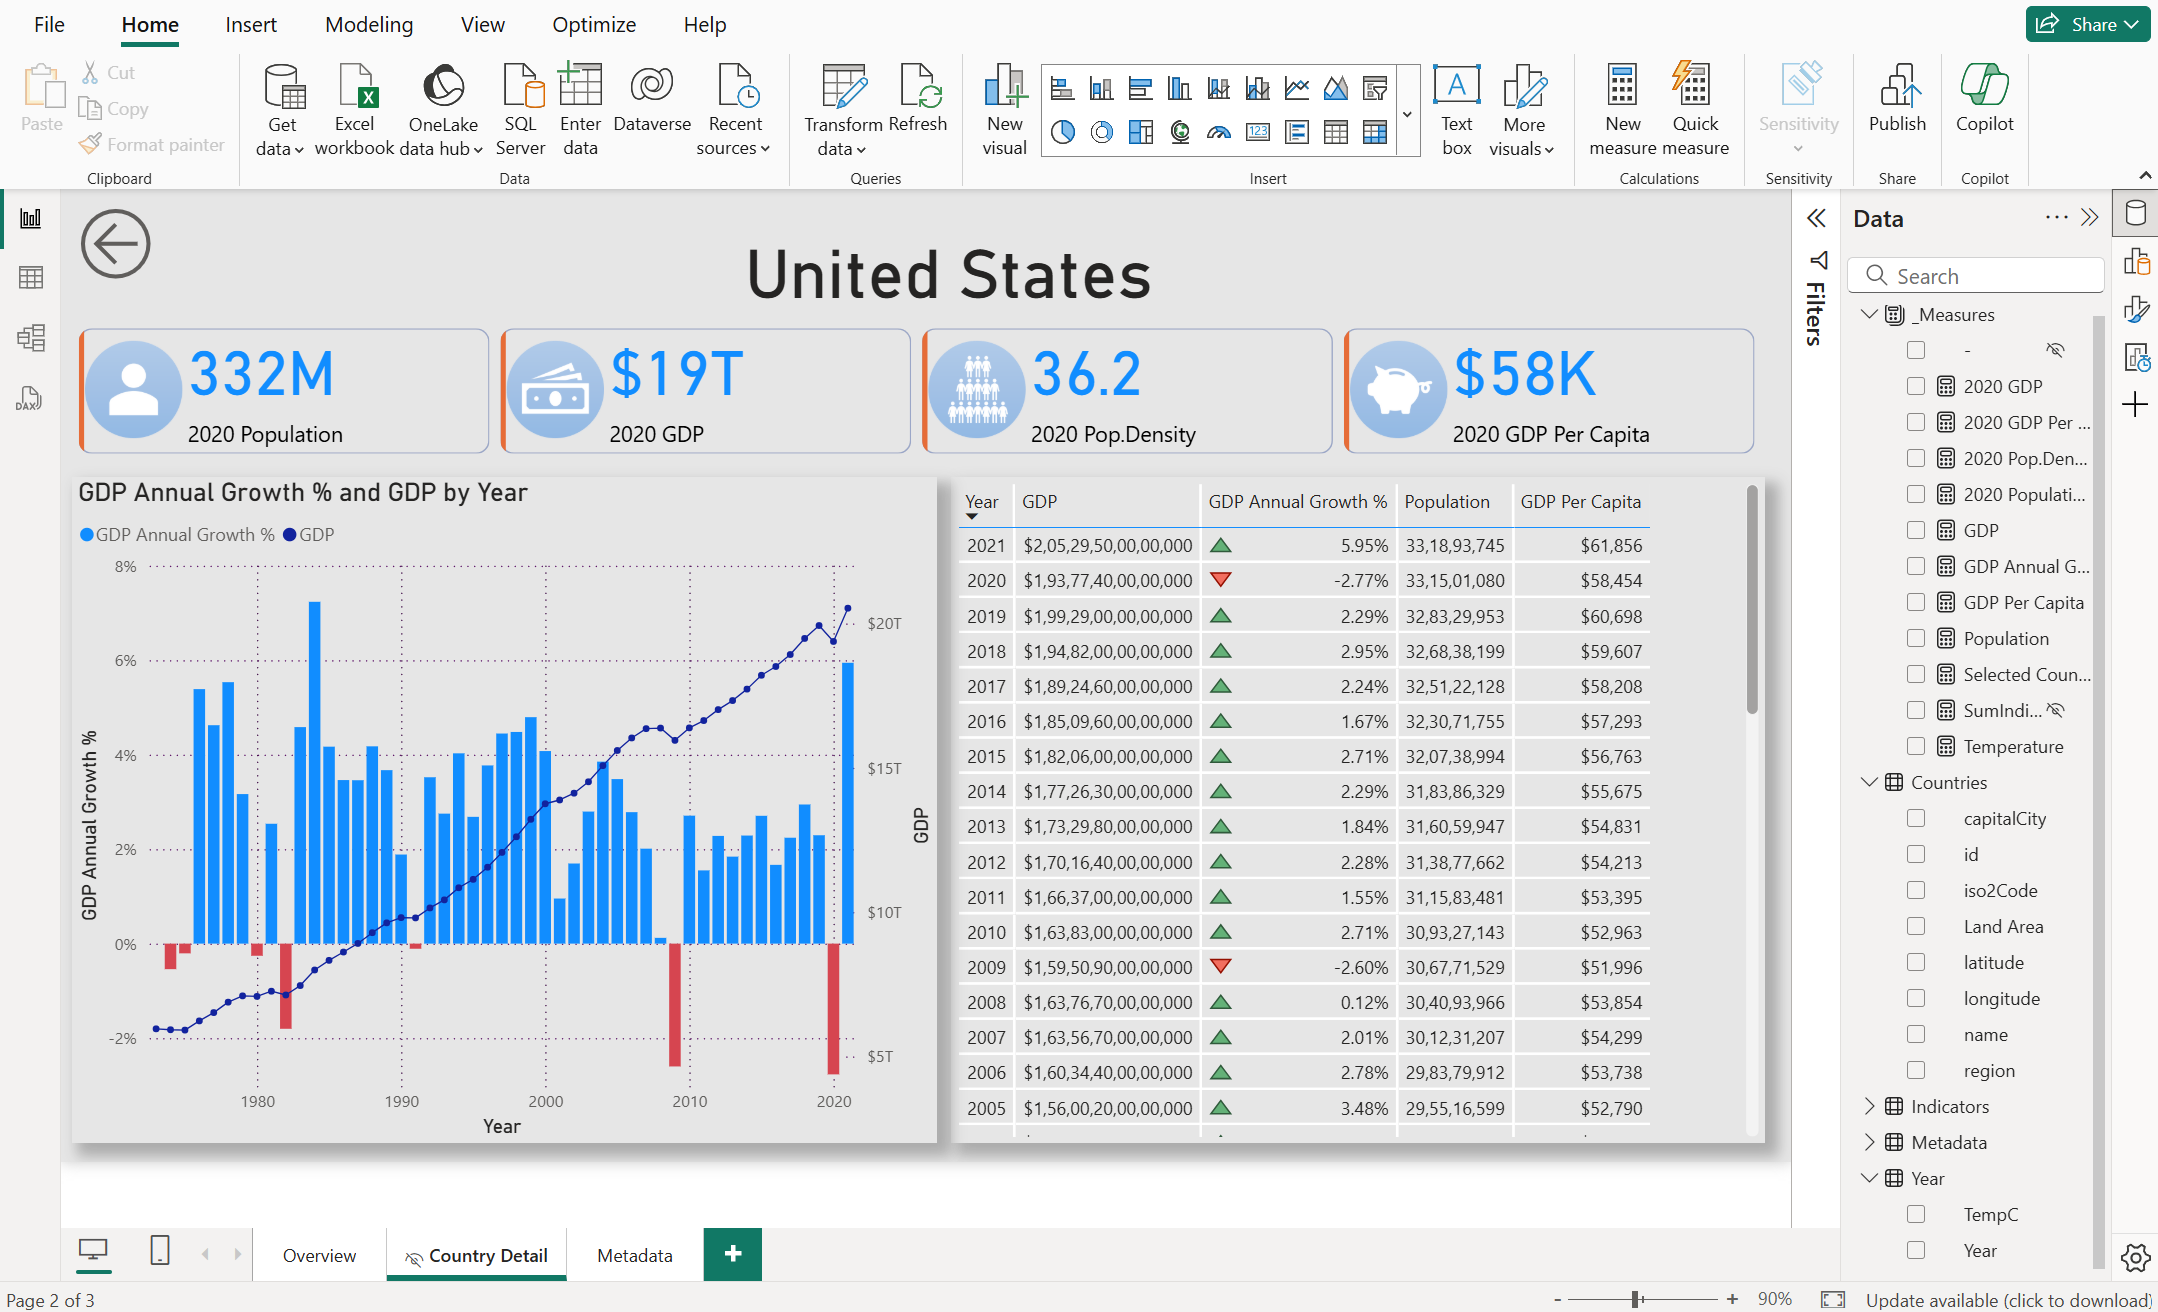

The page's visual inventory and layout, read from the dashboard file:
{"tool":"powerbi","page":{"name":"Country Detail","canvas":[1280,720],"ordinal":1},"visuals":[{"type":"actionButton","box":[7.8,7.8,65.5,65.5],"z":0},{"type":"tableEx","fields":{"Values":["Indicators.Year","_Measures.GDP","_Measures.GDP Annual Growth %","_Measures.Population","_Measures.GDP Per Capita"]},"box":[658,213.1,602.9,492.7],"z":1000},{"type":"lineStackedColumnComboChart","fields":{"Category":["Indicators.Year"],"Y2":["_Measures.GDP"],"Y":["_Measures.GDP Annual Growth %"]},"box":[7.8,213.1,640.4,492.8],"z":2000},{"type":"cardVisual","fields":{"Data":["_Measures.Selected Country"]},"box":[117.6,7.8,1079.9,89.9],"z":3000},{"type":"cardVisual","fields":{"Data":["_Measures.2020 Population","_Measures.2020 GDP","_Measures.2020 Pop.Density","_Measures.2020 GDP Per Capita"]},"box":[7.3,97.7,1253.6,103.9],"z":4000}]}

Visuals, with their boxes on the page's 1280x720 design canvas (x1, y1, x2, y2). These are canvas units, not pixel positions in the 2158x1312 screenshot, which may show the page scaled, cropped or inside an application window:
actionButton: 8:8:73:73
tableEx - Indicators.Year x _Measures.GDP: 658:213:1261:706
lineStackedColumnComboChart - Indicators.Year x _Measures.GDP: 8:213:648:706
cardVisual - _Measures.Selected Country: 118:8:1198:98
cardVisual - _Measures.2020 Population x _Measures.2020 GDP: 7:98:1261:202
